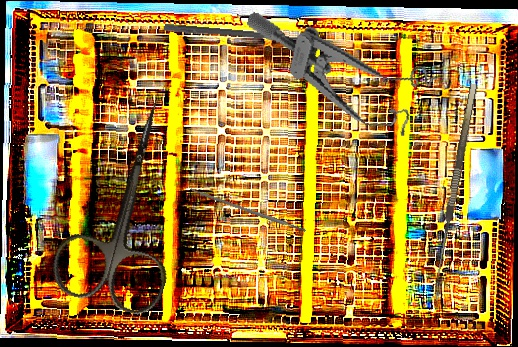Hook Surgical: (431, 83, 489, 286)
Iris Scissors: (45, 86, 213, 320)
Scalpel Handle: (189, 187, 307, 234)
Speculum: (229, 11, 443, 141)
Surgical Spoon: (163, 23, 334, 47)
